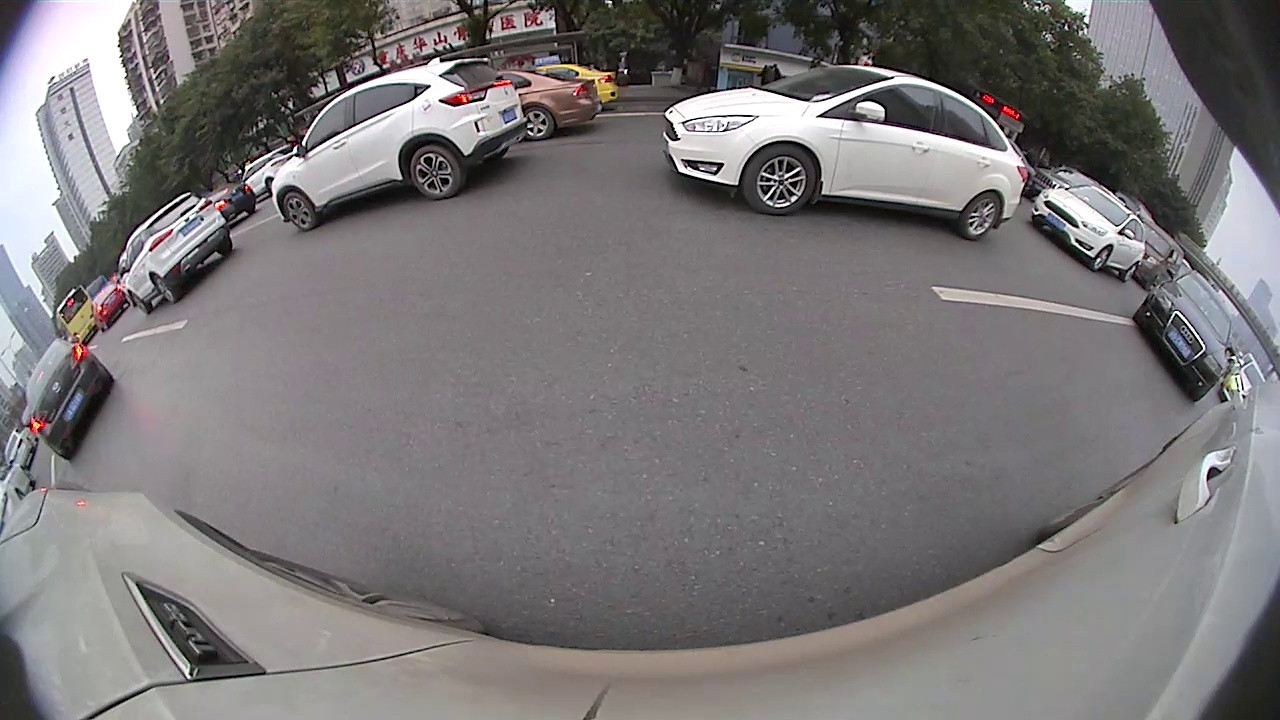car: (661, 63, 1024, 240), (269, 57, 531, 233), (123, 189, 236, 317), (1133, 270, 1235, 402), (1028, 181, 1148, 282), (25, 337, 113, 460), (496, 69, 603, 138), (1131, 220, 1183, 292), (86, 286, 128, 330)
front: (742, 143, 819, 217), (281, 189, 320, 232), (1089, 244, 1117, 274)
rear: (409, 143, 460, 203), (959, 190, 1002, 238), (522, 106, 556, 140), (149, 271, 182, 305)
